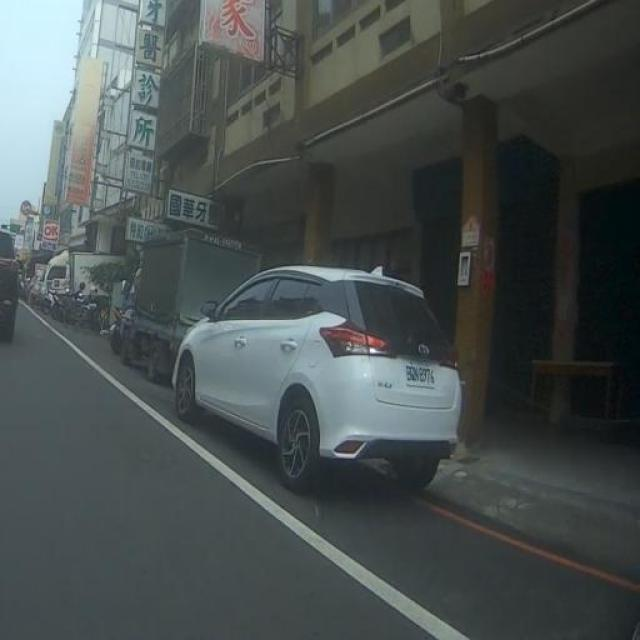Legalparking: (22, 223, 102, 319)
illegalparking: (111, 238, 460, 490)
